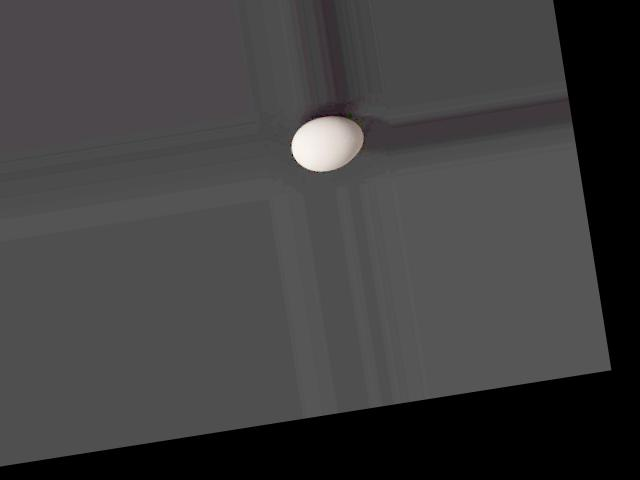egg: (286, 111, 367, 175)
